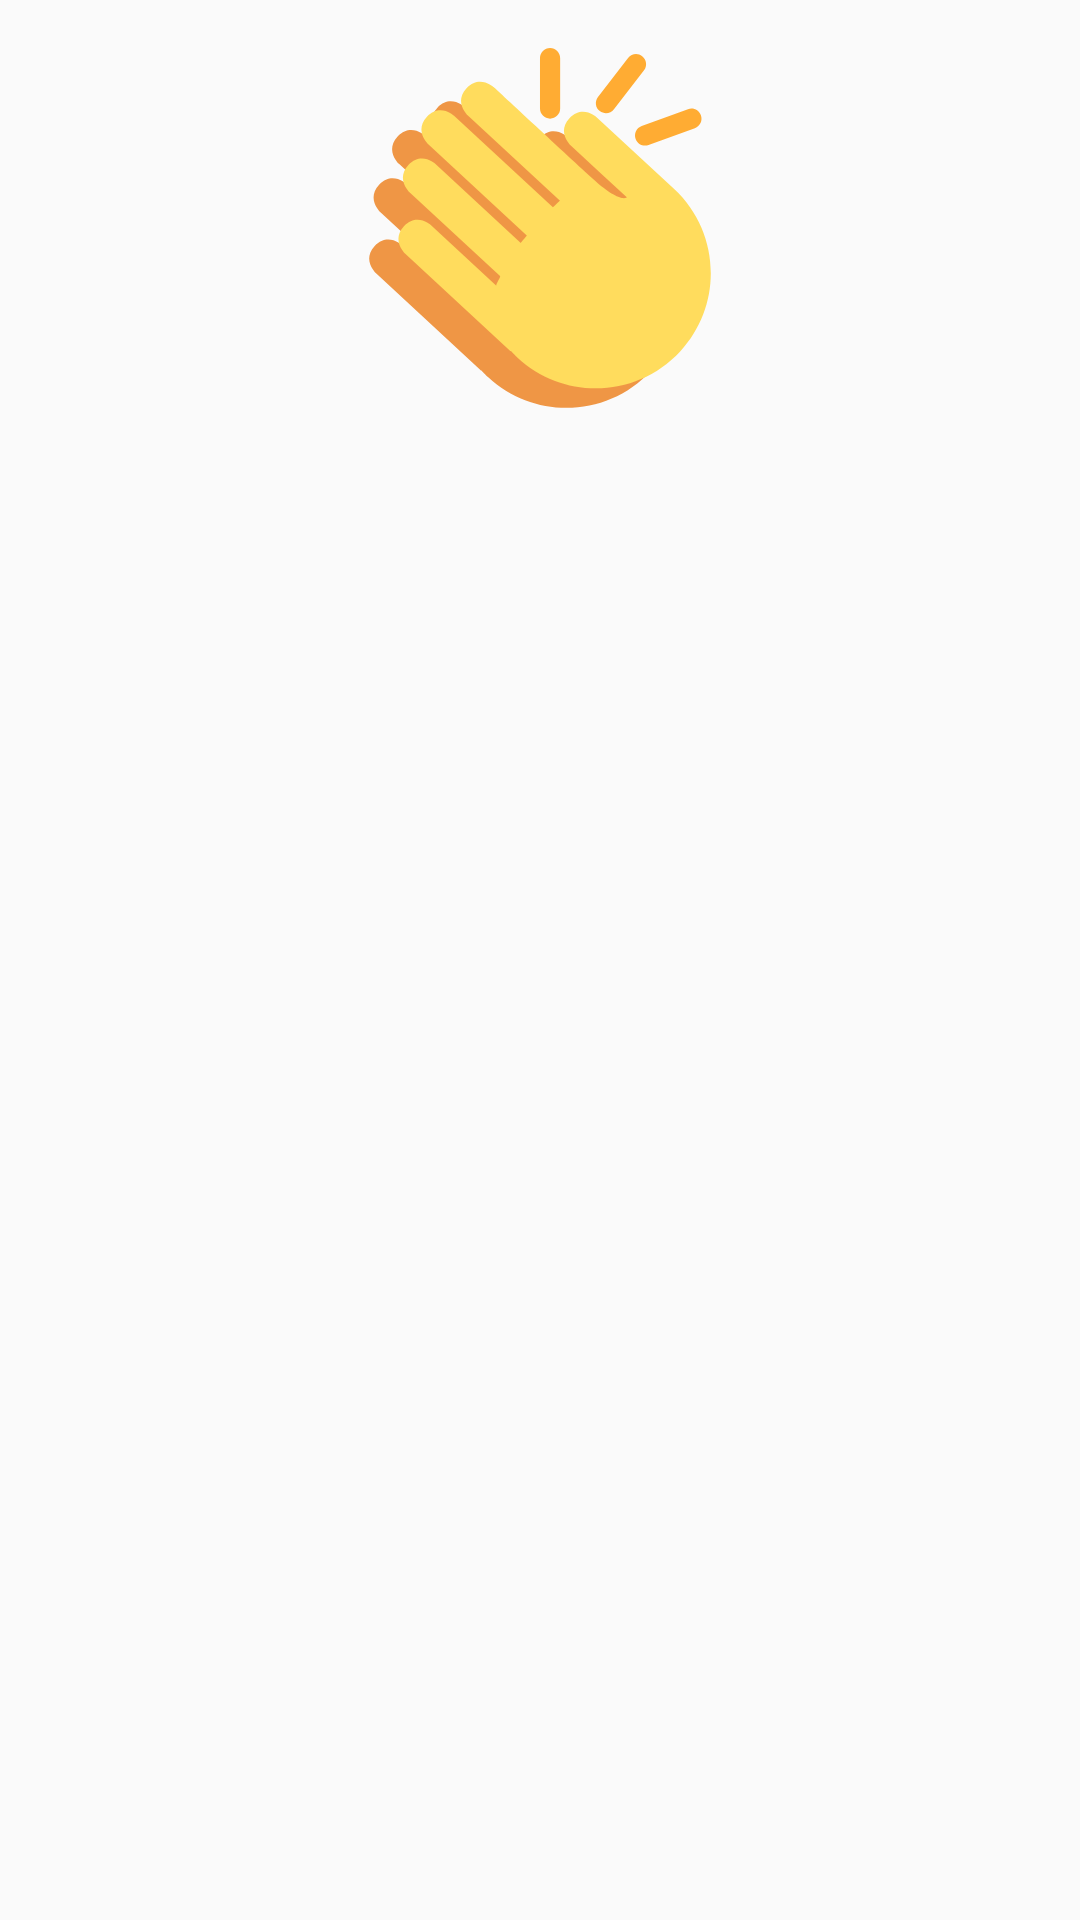

Where icons sit on this 1080×1920 app screen, as (x1, y1, x2, y2):
clapping: (369, 48, 711, 408)
